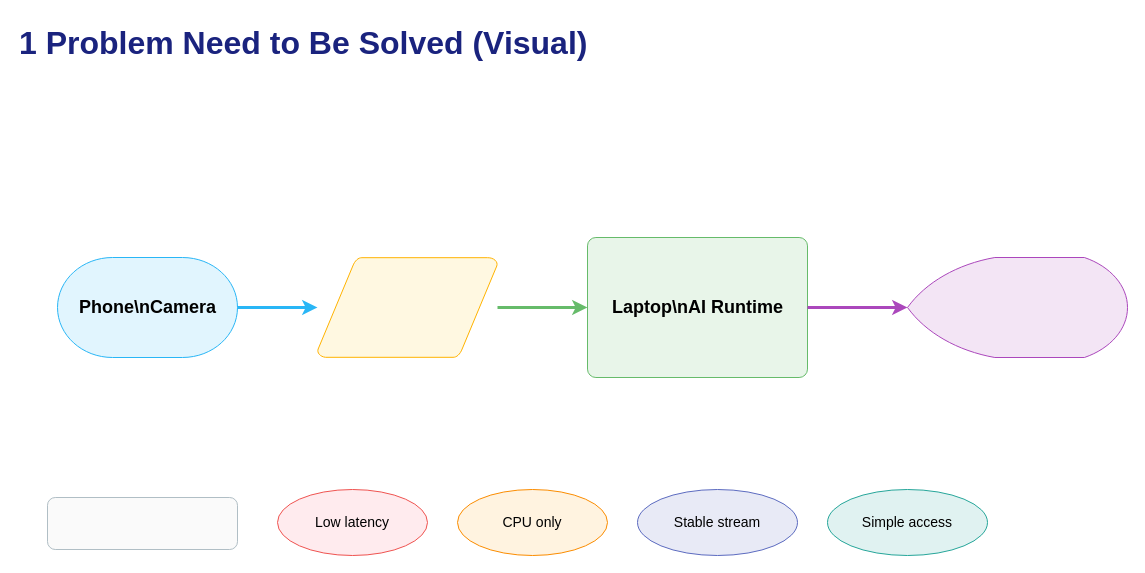
The diagram is 1145 pixels wide and 573 high, and some of its shapes have lost their labels. The centre of each missing label's shape, as x and y in pixels:
"Main constraints" belongs at point (142, 523).
"Web\nViewer" belongs at point (1017, 307).
"Wi-Fi / RTSP" belongs at point (407, 307).
